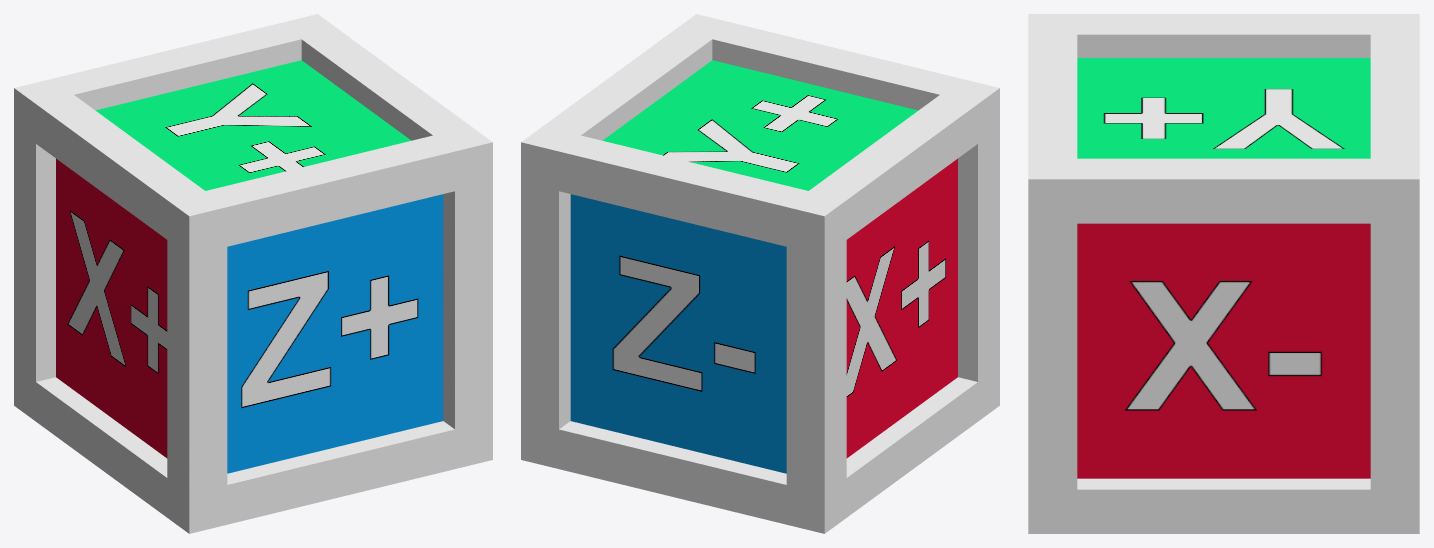
File: AxisBox.fbx
3 renders of one model, left to right at view 1: azimuth 30°, elevation 25°; view 2: azimuth 150°, elevation 25°; view 3: azimuth 270°, elevation 25°, orthographic. The views are drawn at different scales.
Parts seen in each view (by area): view 1: Box; view 2: Box; view 3: Box.
Part boxes in pixels (box(x1,y1,x2,y2)): Box: box(14, 14, 492, 533); Box: box(521, 14, 999, 533); Box: box(1028, 14, 1419, 533).
Size of the model in its own units: 100 by 100 by 100.
